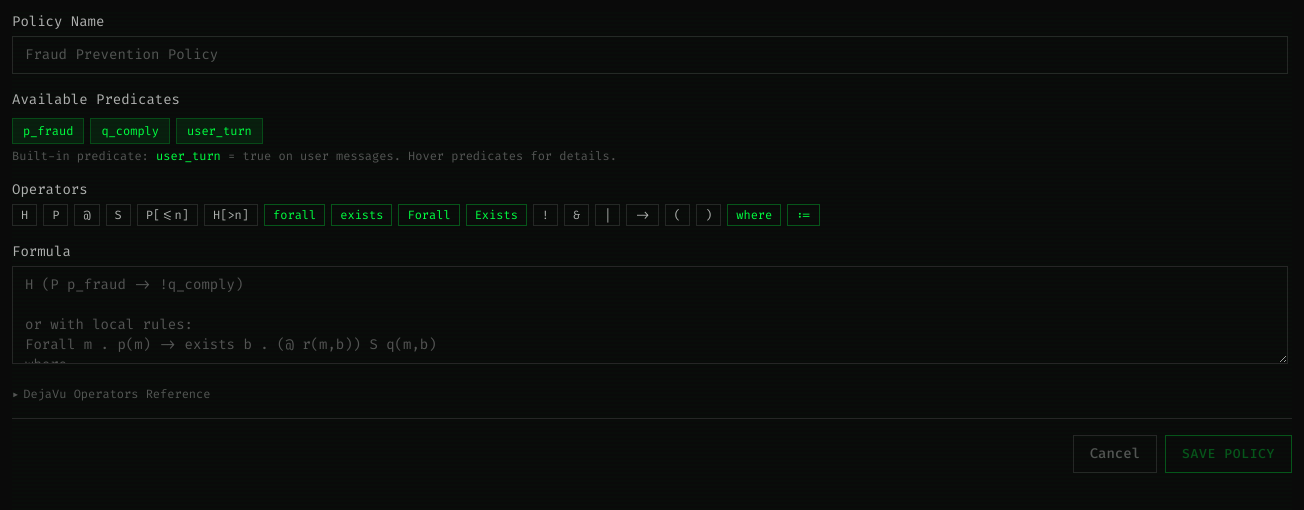
Test: FormulaBuilder › shows error indicator when formula fails validation on save
Type "Test Policy" into the field with test id "policy-name-input". click: x=650, y=55
box: [12,36,1288,74]
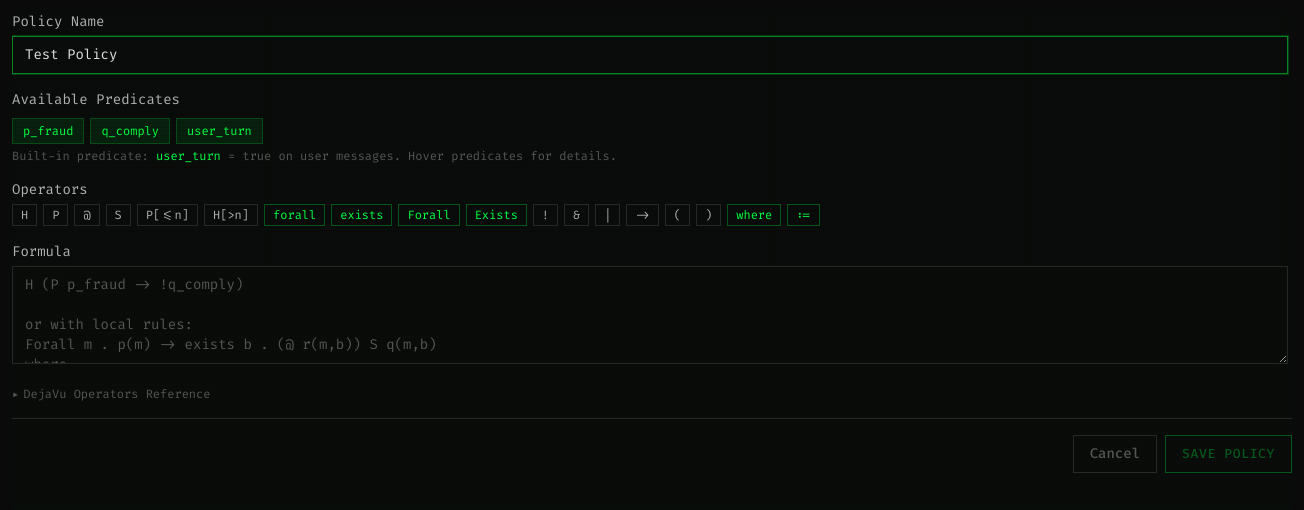
Type "H(p_fraud ->" into the text box with test id "formula-input". click: x=650, y=315
box: [12,266,1288,364]
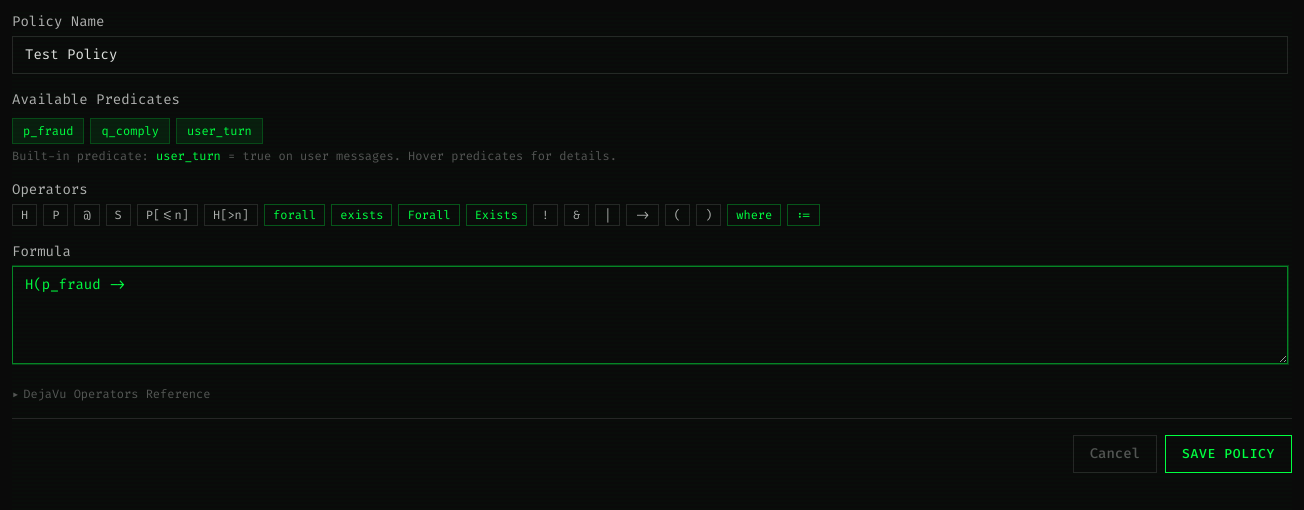
Click the button with test id "policy-save". click: x=1228, y=454
box: [1165,434,1292,472]
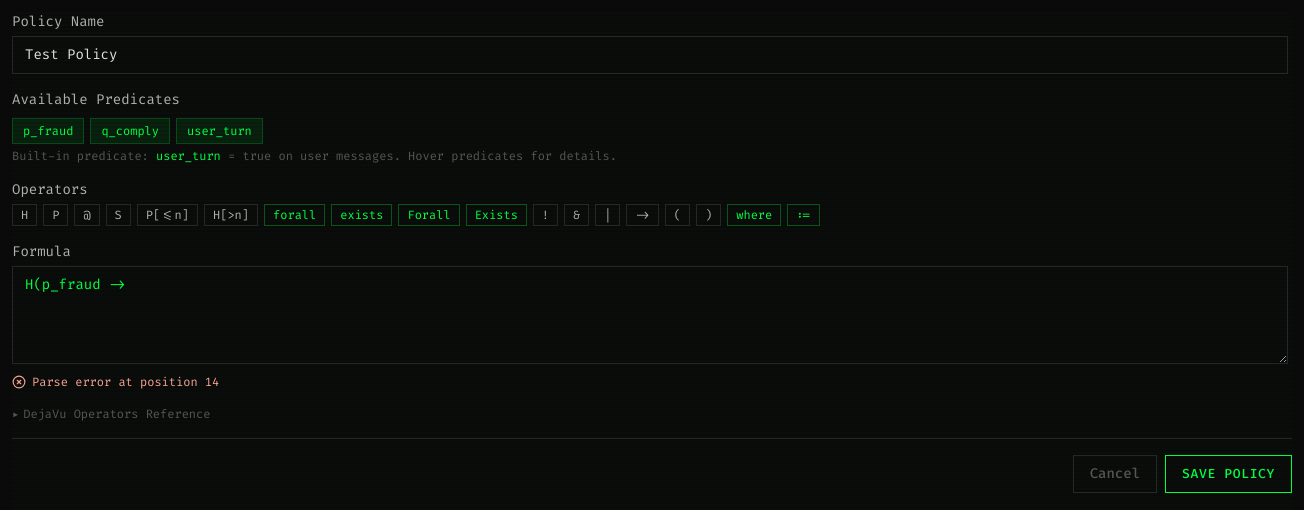
Expected: the element with test id "formula-validation" is shown, [12,374,219,390]
Expected: the text "Parse error at position 14" is shown, [32,374,219,390]
